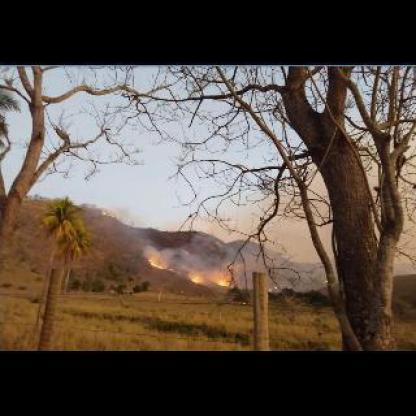fire: (147, 256, 179, 273), (188, 272, 205, 286), (215, 277, 230, 290)
